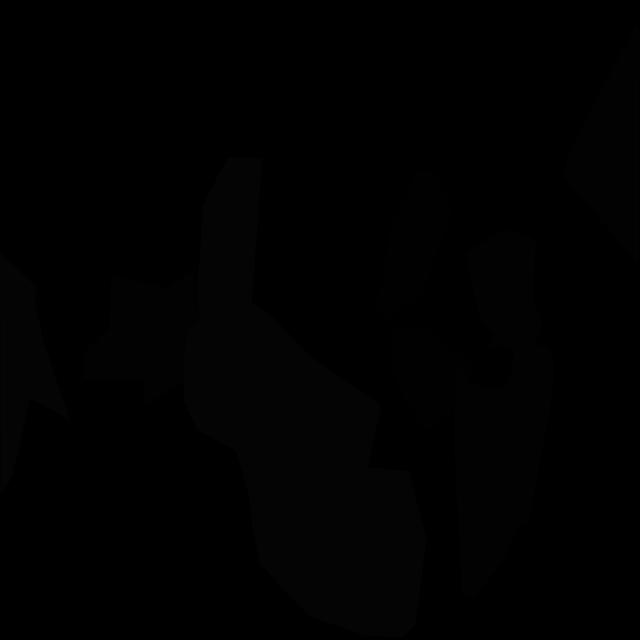cardboard: (454, 305, 554, 598), (562, 25, 640, 265), (83, 270, 199, 406), (466, 230, 536, 349)
rigid_plastic: (372, 170, 452, 325), (390, 326, 475, 431)
soft_plastic: (183, 157, 427, 637), (0, 253, 70, 495)
